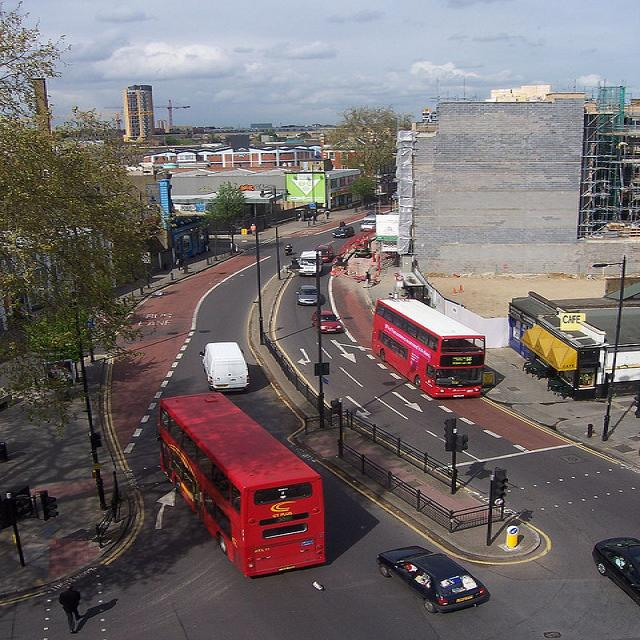Vehicle: (157, 391, 328, 578), (367, 294, 494, 402), (377, 546, 491, 612), (591, 534, 640, 606), (197, 341, 250, 394), (309, 308, 342, 332), (298, 251, 321, 275), (294, 284, 318, 305), (314, 245, 335, 262), (360, 213, 376, 233), (331, 225, 355, 238), (325, 138, 329, 140)
